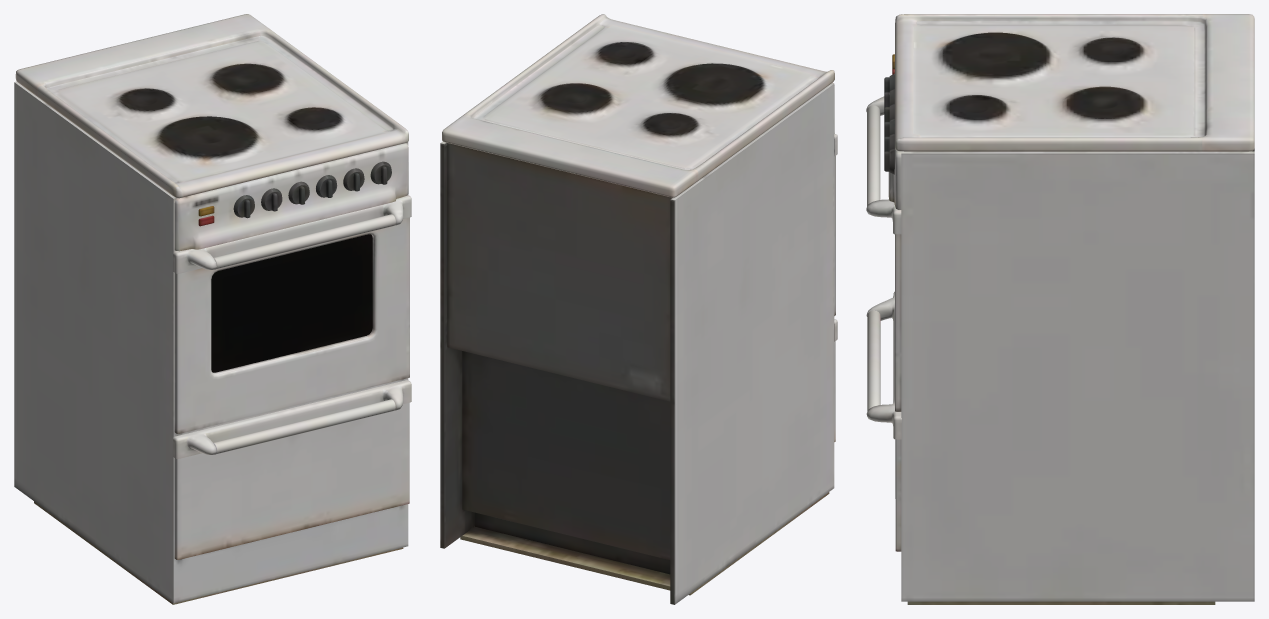
Rendered from electric_stove.glb.
3 views of the same model, side by side, from view 1: azimuth 30°, elevation 25°; view 2: azimuth 150°, elevation 25°; view 3: azimuth 270°, elevation 25° (orthographic). The views are drawn at different scales.
Visible parts, largest first — view 1: stovetop, door_top; view 2: stovetop; view 3: stovetop.
Boxes of the visible parts, x1,y1,x2,y2 form: stovetop: [14, 14, 411, 604]; door_top: [211, 234, 372, 372]; stovetop: [440, 14, 837, 604]; stovetop: [866, 14, 1254, 604].
Bounding box in the file's own units: 0.5026 × 0.8587 × 0.6476.
Materials: 2 (2 with a texture image).
